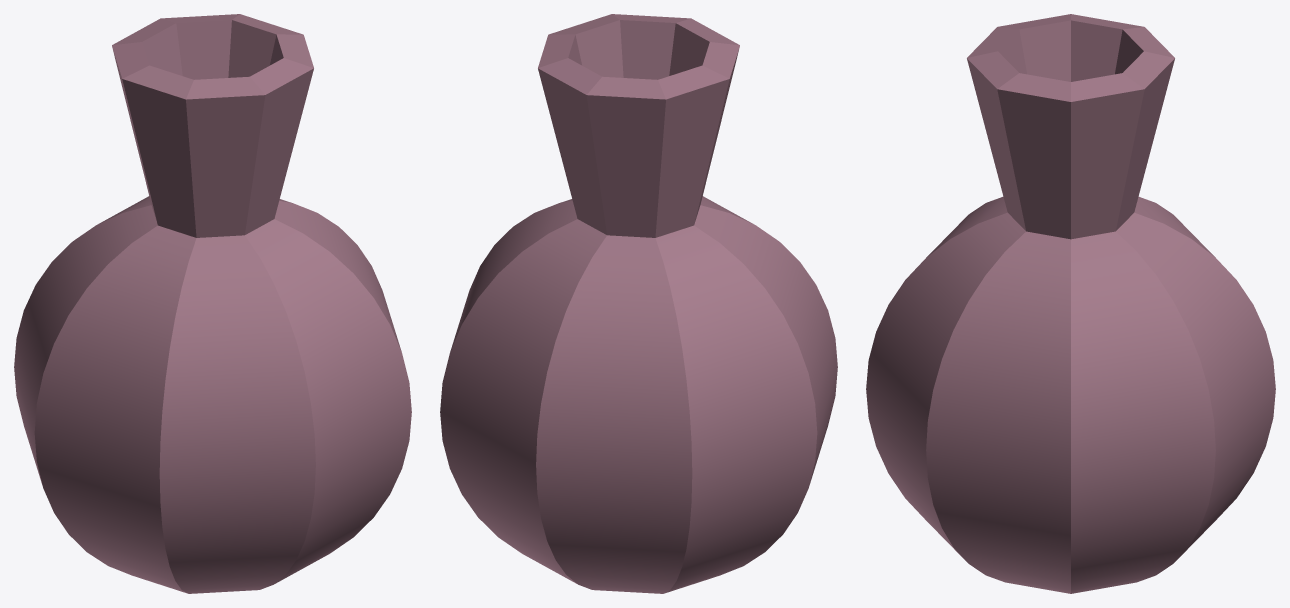
3 renders of one model, left to right at view 1: azimuth 30°, elevation 25°; view 2: azimuth 150°, elevation 25°; view 3: azimuth 270°, elevation 25°, orthographic.
Parts seen in each view (by area): view 1: pSphere1; view 2: pSphere1; view 3: pSphere1.
Boxes of the visible parts, box(x1,y1,x2,y2) form: pSphere1: box(14, 14, 411, 593); pSphere1: box(440, 14, 837, 593); pSphere1: box(866, 14, 1275, 593).
Bounding box in the file's own units: 0.842 × 1.19 × 0.842.
